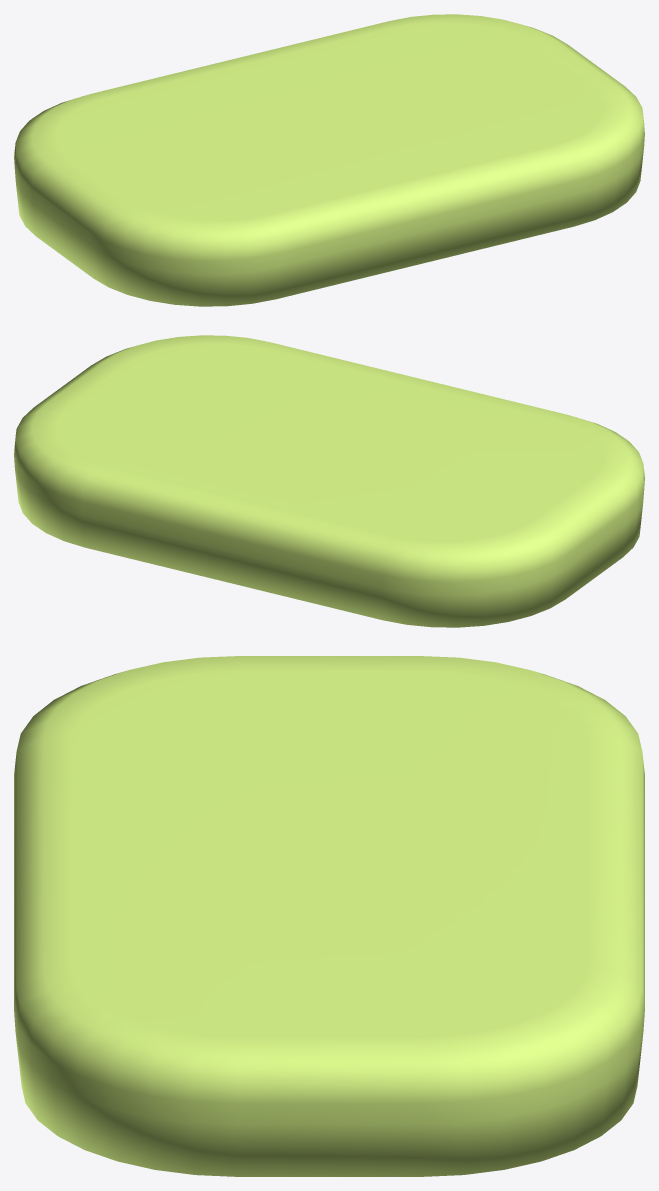
Rendered from Nắp lọ.fbx.
3 views of the same model, one above another, from view 1: azimuth 30°, elevation 25°; view 2: azimuth 150°, elevation 25°; view 3: azimuth 270°, elevation 25° (orthographic). The views are drawn at different scales.
Visible parts, largest first — view 1: Nap_lo; view 2: Nap_lo; view 3: Nap_lo.
Part boxes in pixels (bbox=[...]): Nap_lo: bbox=[14, 14, 644, 306]; Nap_lo: bbox=[14, 335, 644, 627]; Nap_lo: bbox=[14, 656, 644, 1176].
Size of the model in its own units: 542 by 71.84 by 342.
